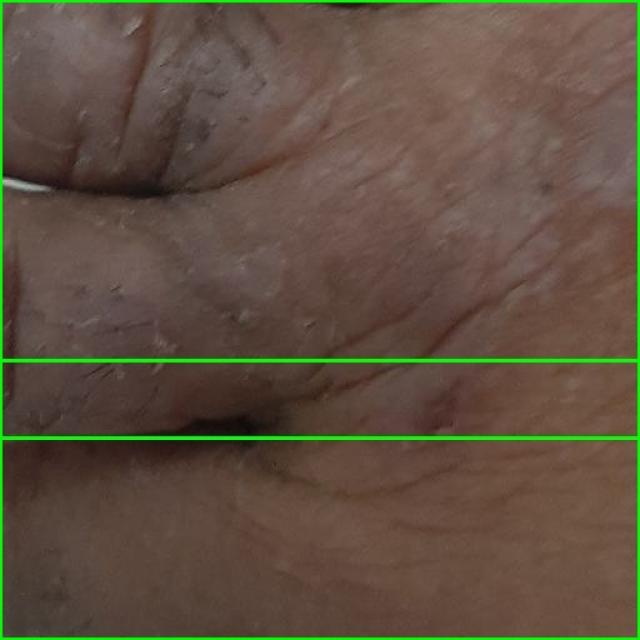Eczema: (0, 0, 639, 438), (0, 360, 639, 639)
